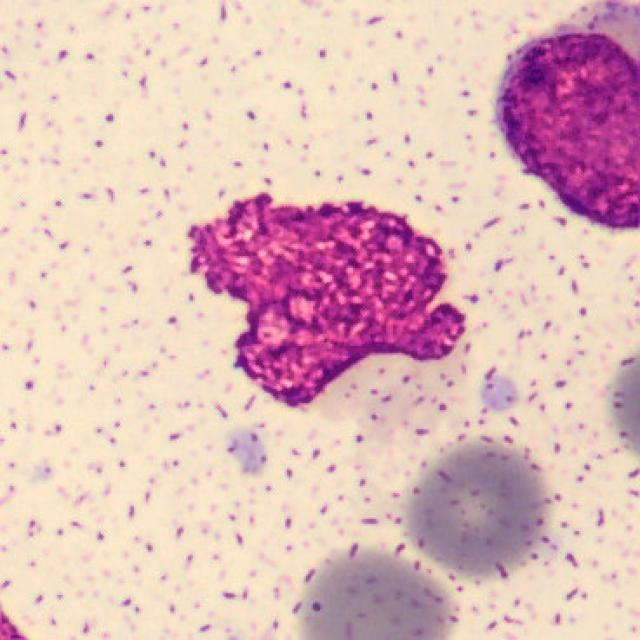Restos celulares: (188, 195, 466, 408)
